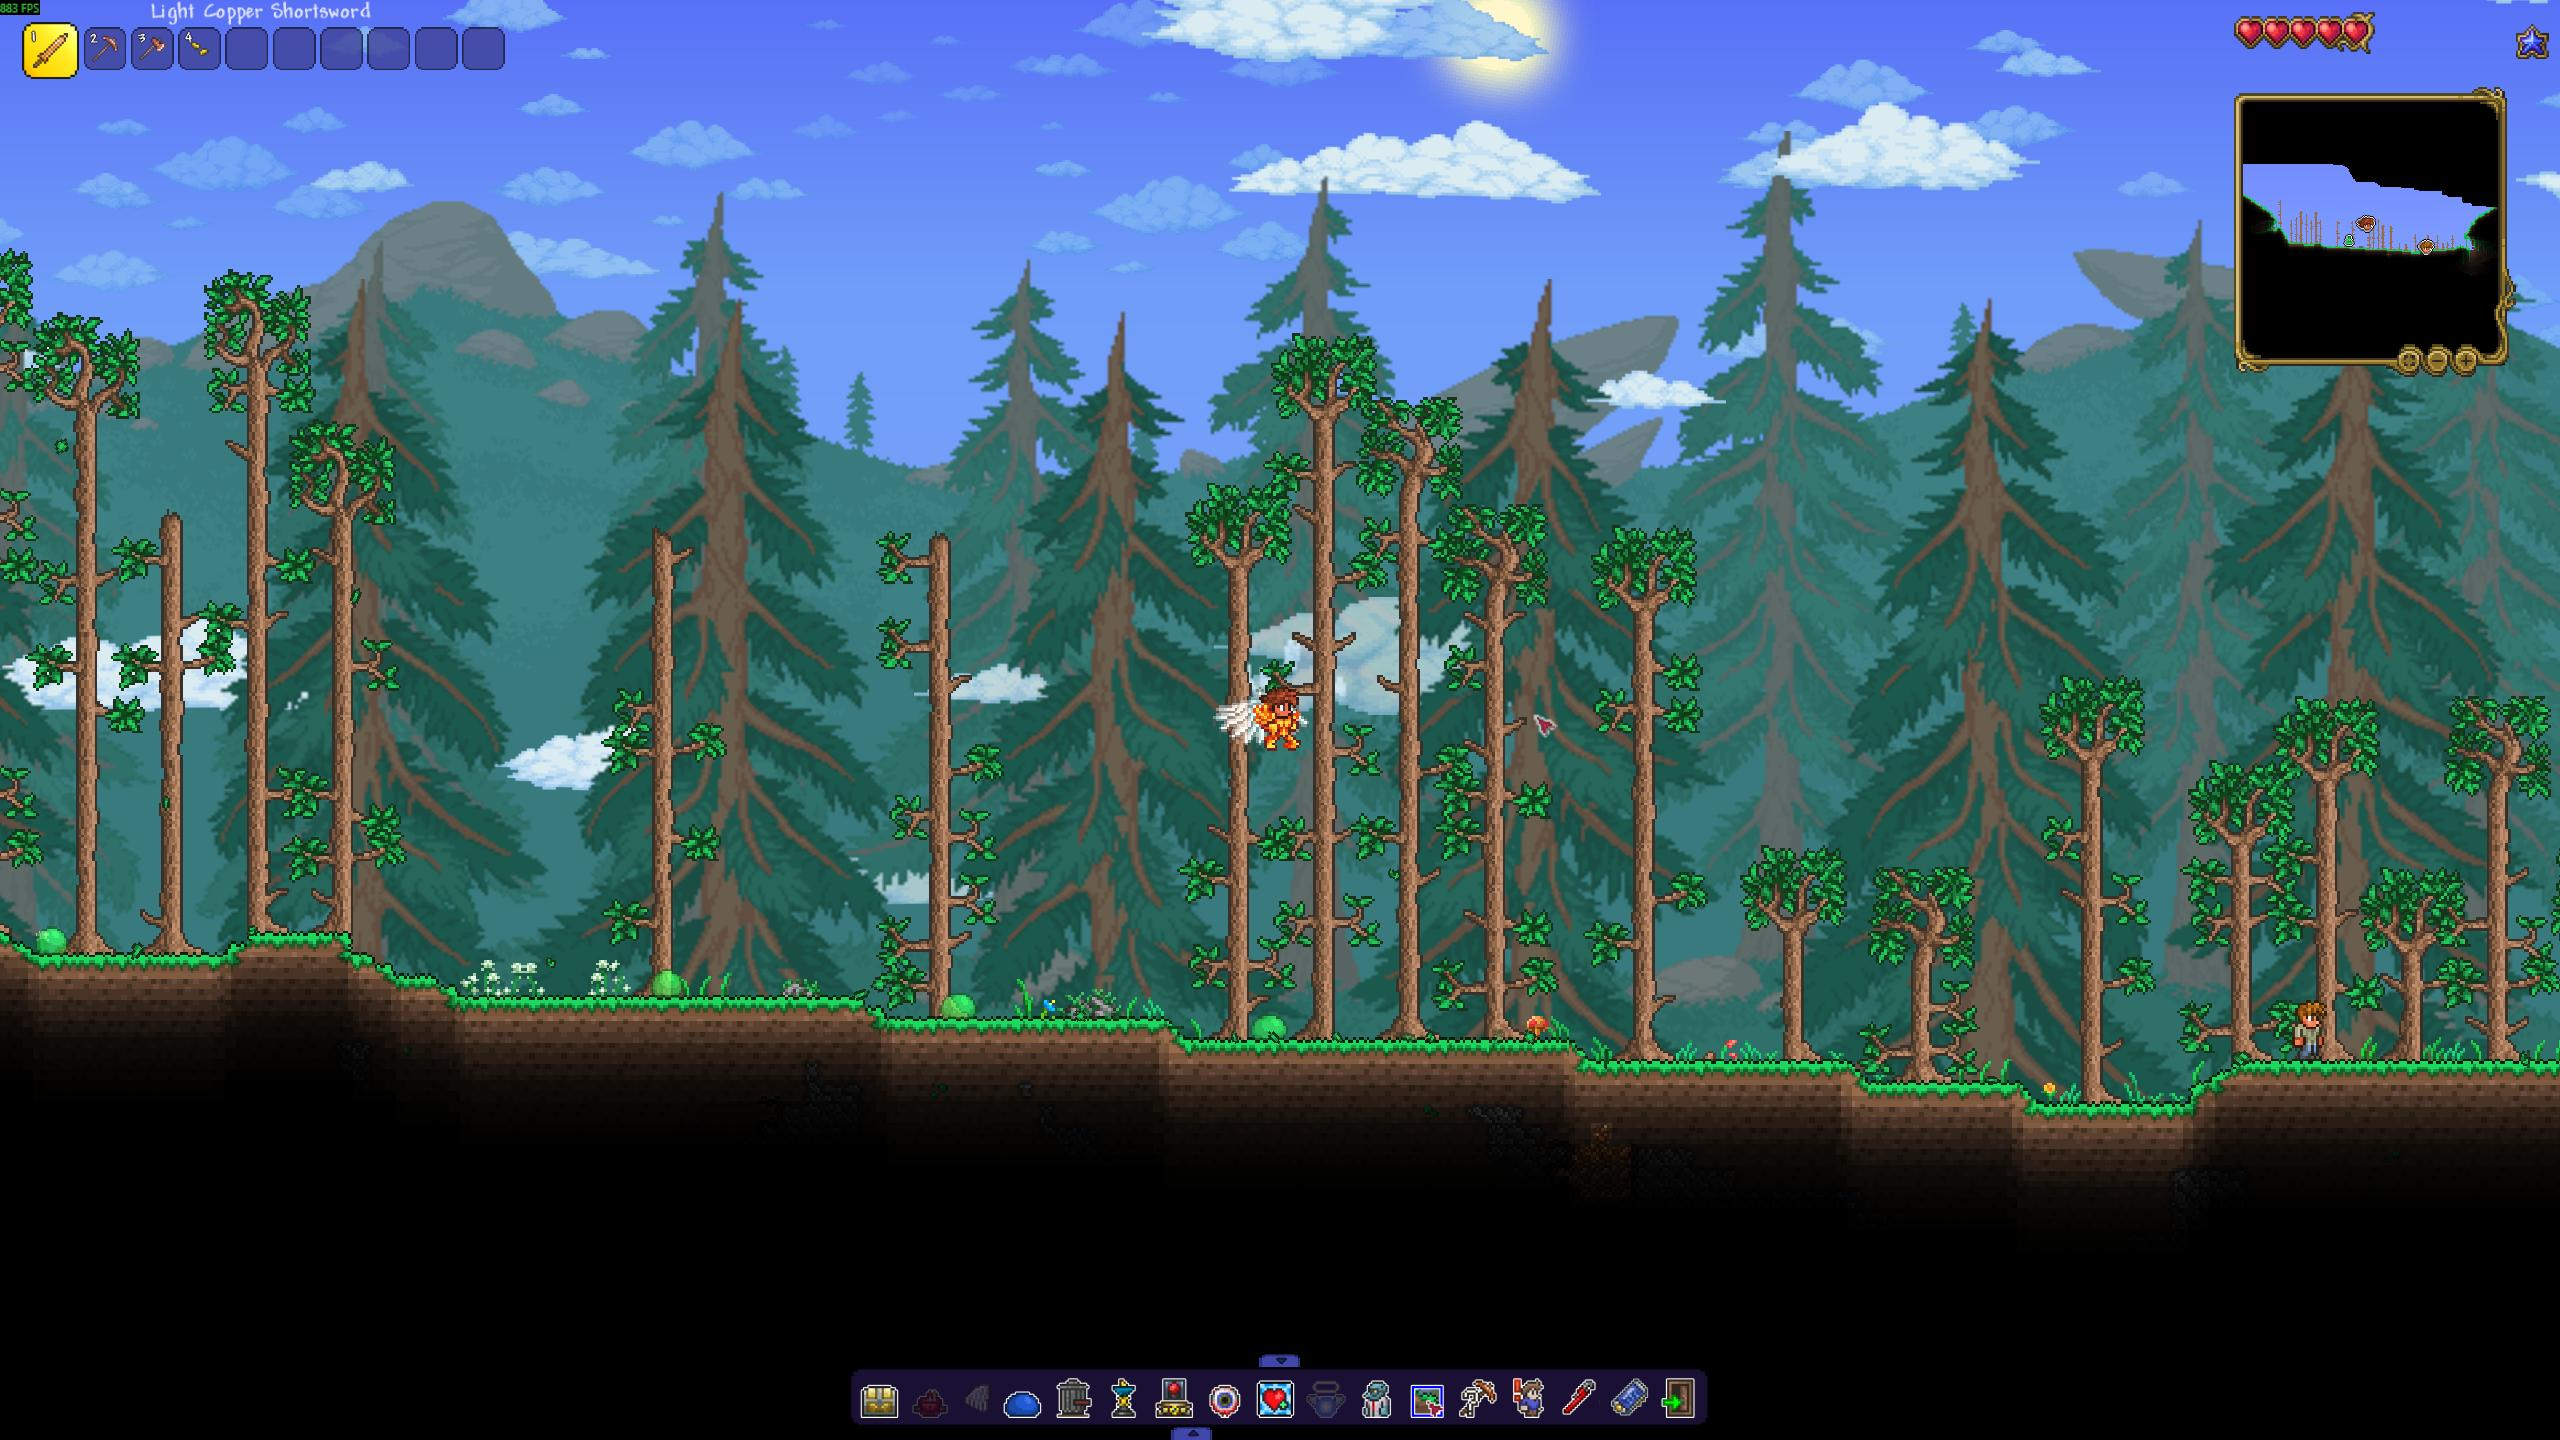Green Slime: (1248, 1011, 1292, 1041), (32, 923, 72, 955), (939, 990, 978, 1022), (649, 967, 684, 997)
